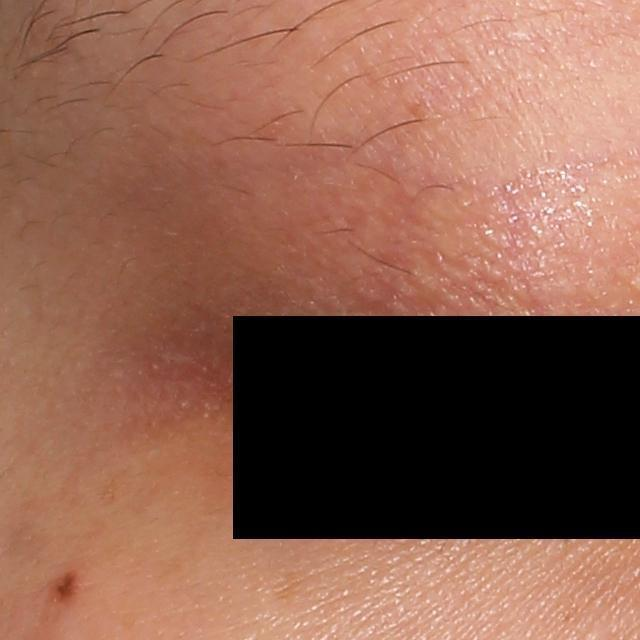nevus: (50, 565, 83, 607)
